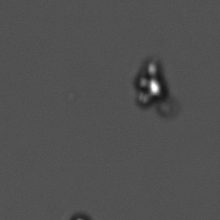Living Cell: (138, 67, 167, 110)
